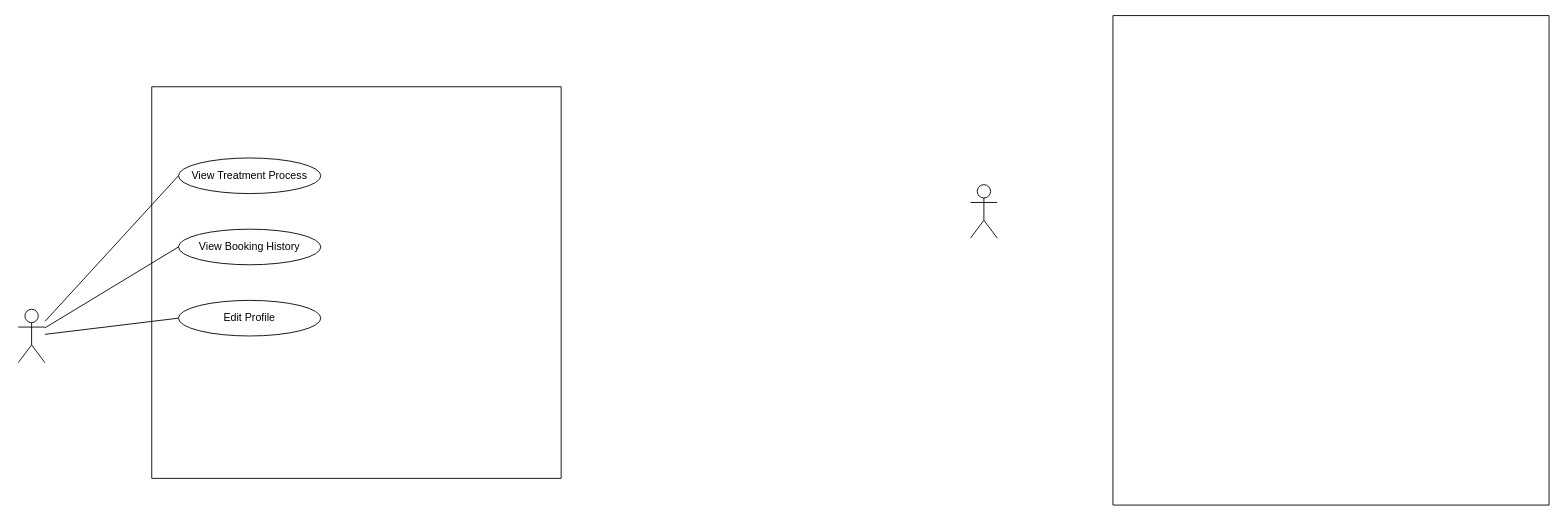
The diagram is 1565 pixels wide and 521 high, and some of its shapes have lost their labels. Here are the shapes that lost their labels. From the top down, the box of each, then its label:
(970, 184, 997, 238): Actor
(17, 308, 45, 363): Patient
